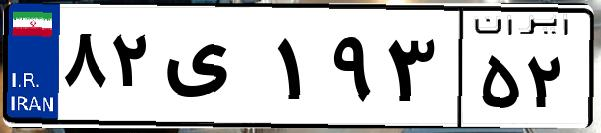1: (270, 28, 330, 110)
2: (525, 38, 570, 115), (110, 28, 158, 98)
3: (385, 28, 445, 110)
5: (475, 38, 525, 113)
8: (57, 26, 110, 100)
9: (330, 28, 385, 110)
ی: (158, 20, 270, 120)
